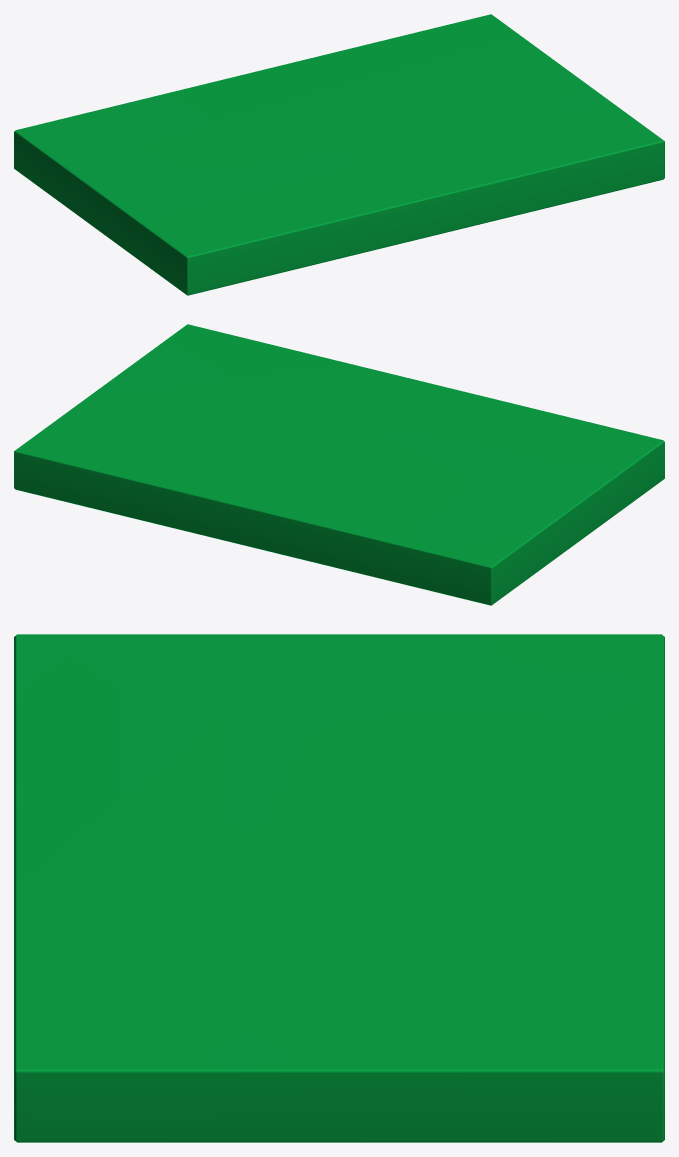
File: Town_20_Base_1.glb
3 views of the same model, one above another, from view 1: azimuth 30°, elevation 25°; view 2: azimuth 150°, elevation 25°; view 3: azimuth 270°, elevation 25° (orthographic). The views are drawn at different scales.
Visible parts, largest first — view 1: Town_20_Base_1; view 2: Town_20_Base_1; view 3: Town_20_Base_1.
Boxes of the visible parts, left/top/right/bottom form: Town_20_Base_1: left=14, top=14, right=664, bottom=295; Town_20_Base_1: left=14, top=324, right=664, bottom=605; Town_20_Base_1: left=14, top=634, right=664, bottom=1142.
Bounding box in the file's own units: 14.54 × 1.15 × 9.14.
Materials: 1 (1 with a texture image).
